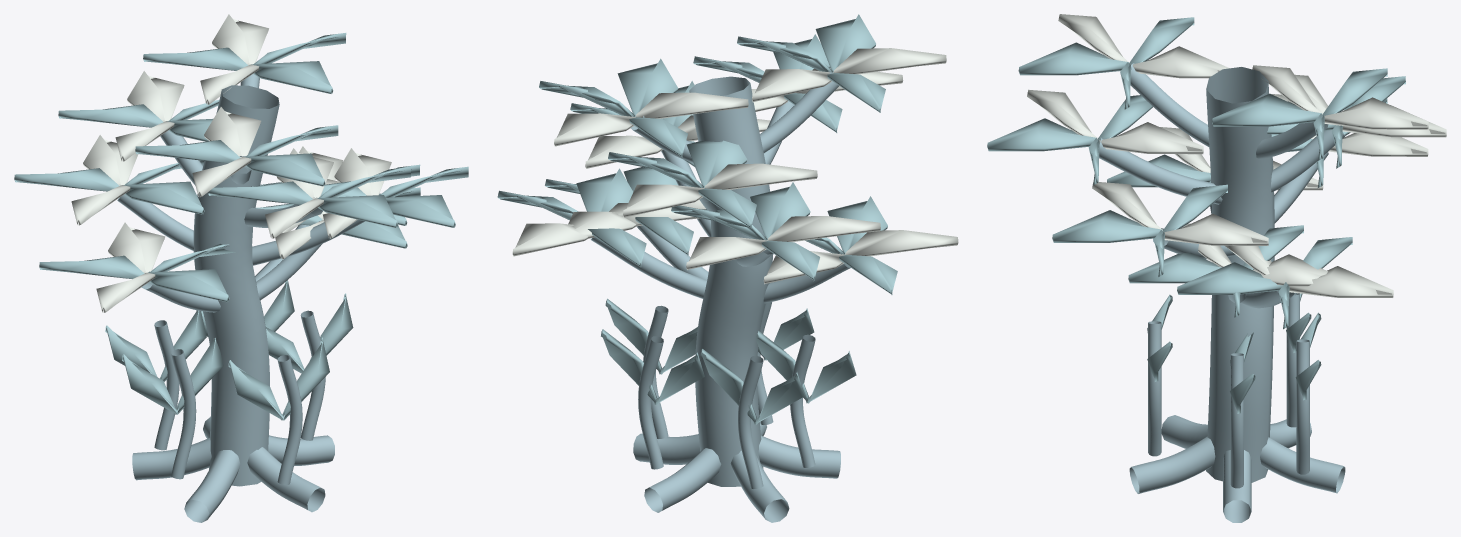
The model's file is bio_canopy_tree_17_near.glb.
3 renders of one model, left to right at view 1: azimuth 30°, elevation 25°; view 2: azimuth 150°, elevation 25°; view 3: azimuth 270°, elevation 25°, orthographic. The views are drawn at different scales.
Parts seen in each view (by area): view 1: Buttressed trunk, Broad canopy leaf.035, Broad canopy leaf.015, Broad canopy leaf.010, Broad canopy leaf.020, Broad canopy leaf.005, Broad canopy leaf.021, Broad canopy leaf.036, Broad canopy leaf.025, Broad canopy leaf.030, Broad canopy leaf.031, Broad canopy leaf.016 (+14 smaller); view 2: Buttressed trunk, Broad canopy leaf.035, Broad canopy leaf.015, Broad canopy leaf.005, Broad canopy leaf.030, Broad canopy leaf.016, Broad canopy leaf.031, Broad canopy leaf.036, Broad canopy leaf.006, Broad canopy leaf.040, Broad canopy leaf.021, Broad canopy leaf.020 (+17 smaller); view 3: Buttressed trunk, Broad canopy leaf.035, Broad canopy leaf.015, Broad canopy leaf.025, Broad canopy leaf.010, Broad canopy leaf.026, Broad canopy leaf.011, Broad canopy leaf.016, Broad canopy leaf.040, Broad canopy leaf.036, Broad canopy leaf, Broad canopy leaf.041 (+13 smaller).
Boxes of the visible parts, <box> form: Buttressed trunk: <box>117,74,364,522</box>; Broad canopy leaf.035: <box>135,125,338,186</box>; Broad canopy leaf.015: <box>143,33,346,93</box>; Broad canopy leaf.010: <box>208,166,410,227</box>; Broad canopy leaf.020: <box>39,243,235,302</box>; Broad canopy leaf.005: <box>14,160,204,214</box>; Broad canopy leaf.021: <box>96,222,165,312</box>; Broad canopy leaf.036: <box>192,107,261,197</box>; Broad canopy leaf.025: <box>321,166,468,227</box>; Broad canopy leaf.030: <box>58,99,219,141</box>; Broad canopy leaf.031: <box>115,71,184,161</box>; Broad canopy leaf.016: <box>200,14,268,104</box>; Buttressed trunk: <box>590,71,850,522</box>; Broad canopy leaf.035: <box>737,14,885,112</box>; Broad canopy leaf.015: <box>539,58,687,157</box>; Broad canopy leaf.005: <box>671,182,819,281</box>; Broad canopy leaf.030: <box>608,140,756,228</box>; Broad canopy leaf.016: <box>554,92,748,146</box>; Broad canopy leaf.031: <box>623,163,817,217</box>; Broad canopy leaf.036: <box>752,48,946,101</box>; Broad canopy leaf.006: <box>686,216,880,269</box>; Broad canopy leaf.040: <box>497,168,646,267</box>; Broad canopy leaf.021: <box>763,230,958,284</box>; Broad canopy leaf.020: <box>805,196,897,294</box>; Buttressed trunk: <box>1099,63,1345,522</box>; Broad canopy leaf.035: <box>1018,17,1194,109</box>; Broad canopy leaf.015: <box>1212,68,1387,160</box>; Broad canopy leaf.025: <box>1052,184,1227,276</box>; Broad canopy leaf.010: <box>987,95,1152,185</box>; Broad canopy leaf.026: <box>1092,182,1268,245</box>; Broad canopy leaf.011: <box>1027,89,1203,154</box>; Broad canopy leaf.016: <box>1252,65,1428,129</box>; Broad canopy leaf.040: <box>1177,237,1352,329</box>; Broad canopy leaf.036: <box>1058,14,1229,78</box>; Broad canopy leaf: <box>1128,225,1303,317</box>; Broad canopy leaf.041: <box>1224,245,1393,297</box>.
Bounding box in the file's own units: 3.06 × 2.99 × 3.05.
